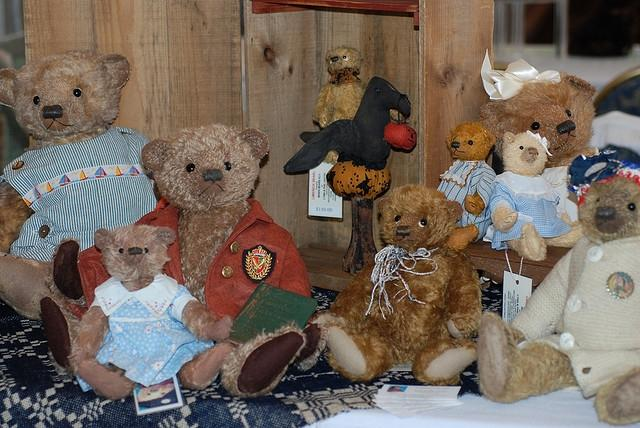pumpkin: (326, 161, 392, 199), (384, 122, 417, 150)
